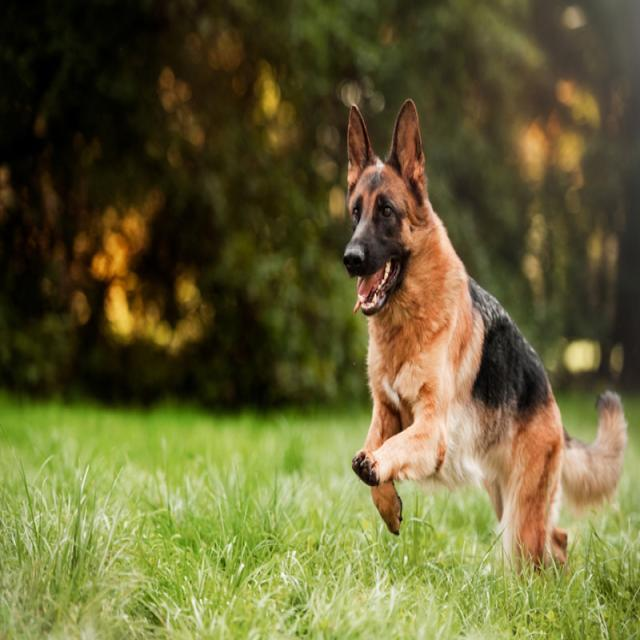German Shepherd: (332, 101, 465, 402)
